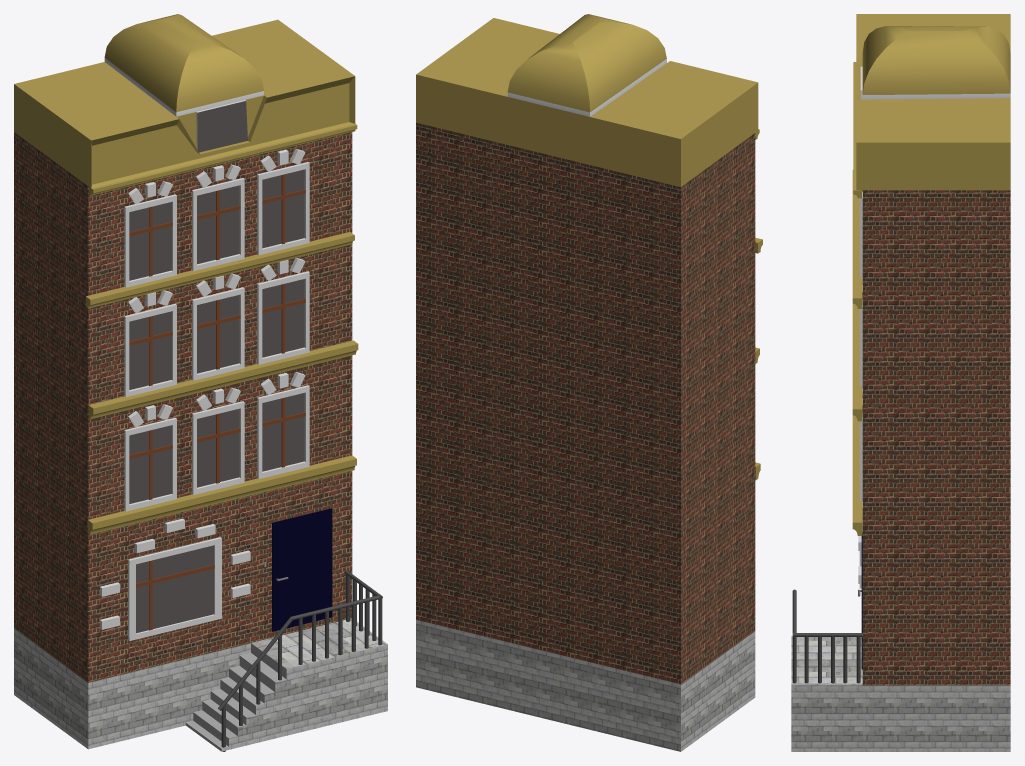
The model's file is hhuis 111.fbx.
3 renders of one model, left to right at view 1: azimuth 30°, elevation 25°; view 2: azimuth 150°, elevation 25°; view 3: azimuth 270°, elevation 25°, orthographic.
Parts seen in each view (by area): view 1: pCube54, pCube75, pCube79, pCube82, pCube84; view 2: pCube54; view 3: pCube54, pCube75, pCube82, pCube79, pCube84.
Boxes of the visible parts, box(x1,y1,x2,y2) form: pCube54: box(14, 14, 387, 751); pCube75: box(87, 455, 356, 534); pCube79: box(88, 340, 358, 418); pCube82: box(85, 232, 354, 308); pCube84: box(89, 124, 357, 195); pCube54: box(416, 14, 758, 751); pCube54: box(791, 14, 1010, 751); pCube75: box(852, 415, 862, 535); pCube82: box(852, 170, 862, 308); pCube79: box(852, 303, 862, 421); pCube84: box(853, 62, 861, 198).
Size of the model in its own units: 32.39 by 76.21 by 23.01.
11 materials, 2 textured.
